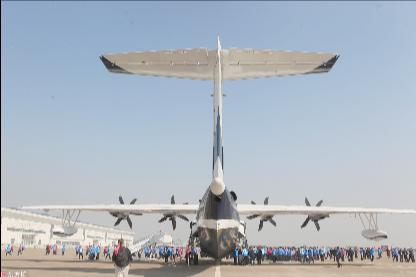AG600: (16, 35, 414, 266)
